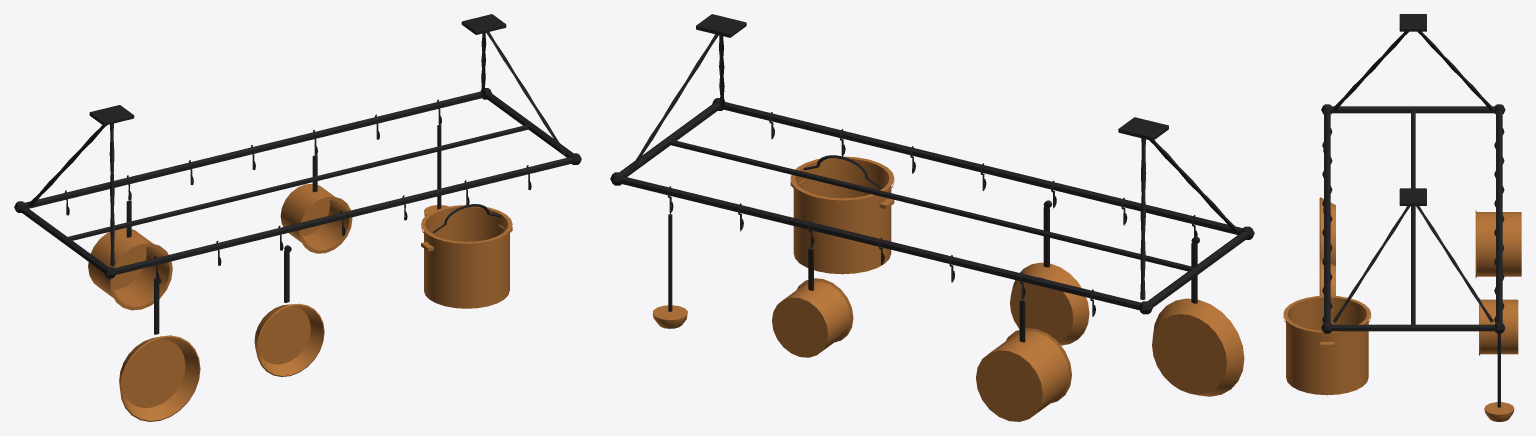
The model's file is pot_rack.glb.
3 views of the same model, side by side, from view 1: azimuth 30°, elevation 25°; view 2: azimuth 150°, elevation 25°; view 3: azimuth 270°, elevation 25° (orthographic). The views are drawn at different scales.
Visible parts, largest first — view 1: pot_rack, stock_pot, frying_pan_1, frying_pan_2, saucepan_1, saucepan_2; view 2: pot_rack, stock_pot, frying_pan_1, saucepan_1, saucepan_2, frying_pan_2, ladle; view 3: pot_rack, stock_pot, saucepan_1, saucepan_2, ladle, frying_pan_1, frying_pan_2.
Boxes of the visible parts, box(x1,y1,x2,y2) form: pot_rack: box(14, 14, 581, 279); stock_pot: box(421, 204, 512, 308); frying_pan_1: box(119, 277, 200, 421); frying_pan_2: box(254, 245, 324, 376); saucepan_1: box(88, 200, 172, 310); saucepan_2: box(280, 155, 352, 253); pot_rack: box(610, 14, 1254, 316); stock_pot: box(790, 155, 894, 274); frying_pan_1: box(1152, 237, 1244, 396); saucepan_1: box(976, 300, 1071, 421); saucepan_2: box(772, 248, 853, 357); frying_pan_2: box(1010, 200, 1089, 345); ladle: box(652, 214, 687, 328); pot_rack: box(1321, 14, 1505, 333); stock_pot: box(1283, 295, 1371, 395); saucepan_1: box(1475, 210, 1521, 277); saucepan_2: box(1479, 298, 1518, 355); ladle: box(1484, 333, 1514, 421); frying_pan_1: box(1319, 147, 1335, 265); frying_pan_2: box(1319, 207, 1335, 295).
Size of the model in its own units: 1.53 by 0.838 by 0.693.
